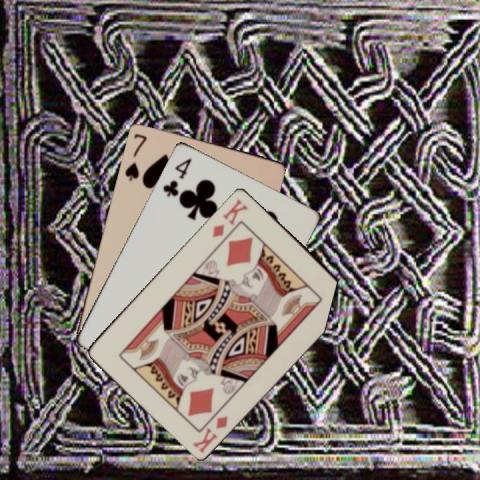4c: (159, 155, 193, 198)
7s: (121, 130, 148, 182)
Kd: (209, 195, 250, 239), (190, 412, 230, 455)
